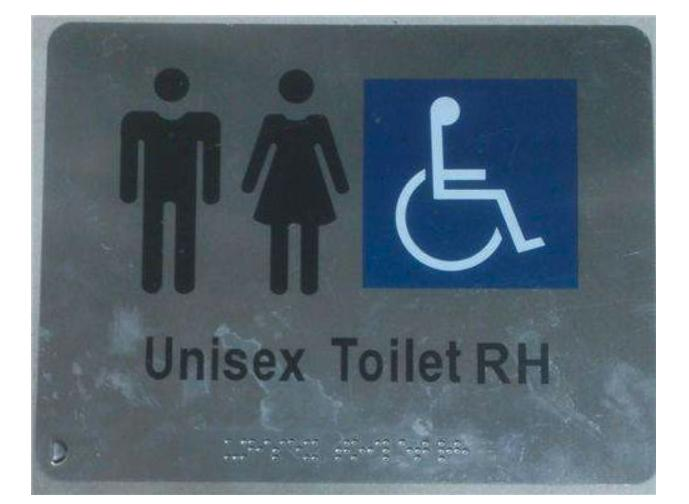Braille: (382, 437, 398, 463), (455, 440, 470, 466), (272, 437, 287, 462), (224, 437, 239, 461), (304, 438, 319, 462), (335, 439, 350, 463), (399, 438, 413, 463), (415, 440, 430, 463), (438, 440, 453, 463), (352, 439, 366, 463), (289, 437, 302, 462), (241, 438, 255, 461), (259, 438, 270, 463), (368, 439, 380, 461)
